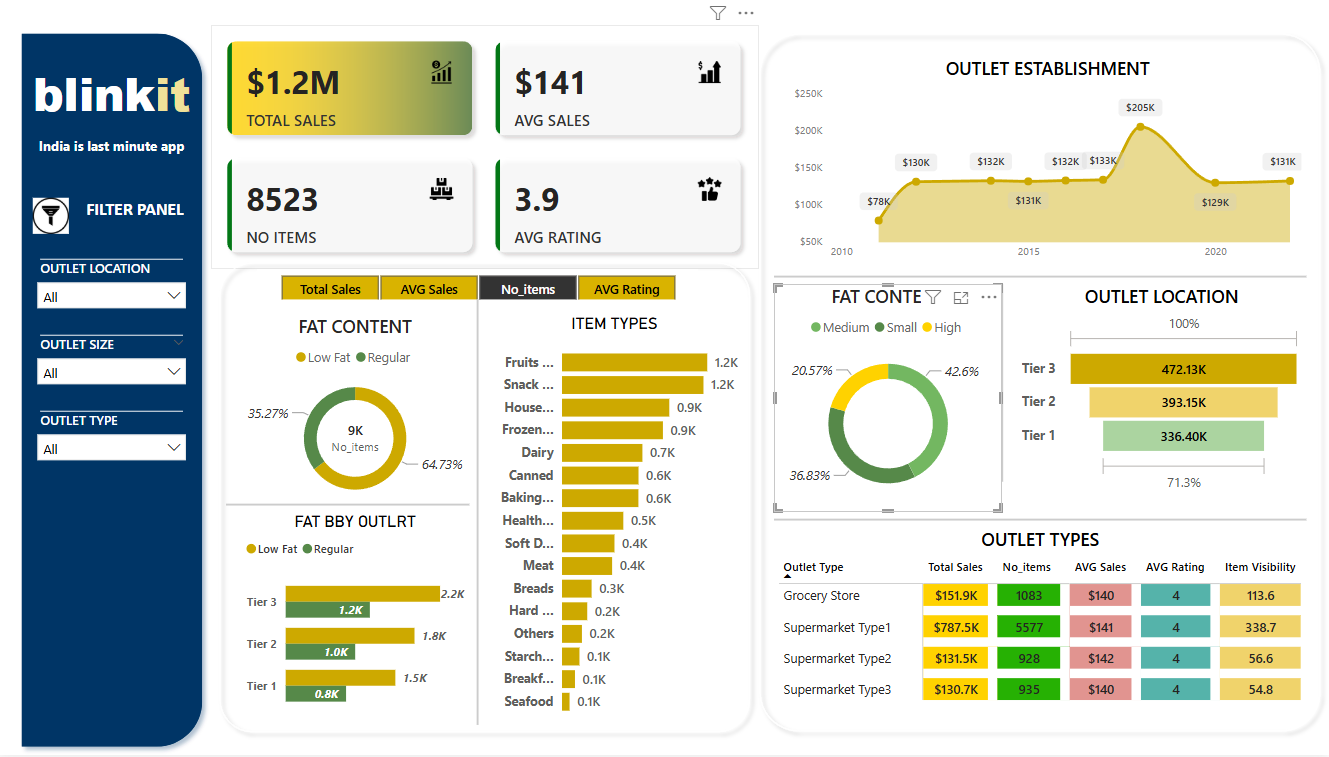

The dashboard page shown, as its layout file describes it:
{"tool":"powerbi","page":{"name":"Page 1","canvas":[1400,800],"ordinal":0},"visuals":[{"type":"shape","box":[16,32,208,768],"z":0},{"type":"textbox","box":[32,64,176,96],"z":1000},{"type":"textbox","box":[32,144,176,48],"z":2000},{"type":"cardVisual","fields":{"Data":["Dax-Measures.Total Sales","Dax-Measures.AVG Sales","Dax-Measures.No_items","Dax-Measures.AVG Rating"]},"box":[224,32,576,256],"z":3000},{"type":"shape","box":[224,272,576,512],"z":4000},{"type":"slicer","fields":{"Values":["MATRICS.MATRICS"]},"box":[272,288,464,32],"z":5000},{"type":"donutChart","title":"FAT CONTENT","fields":{"Y":["Dax-Measures.No_items"],"Category":["BlinkIT Data.Item Fat Content"]},"box":[256,336,240,208],"z":6000},{"type":"cardVisual","fields":{"Data":["Dax-Measures.No_items"]},"box":[320,432,112,64],"z":7000},{"type":"clusteredBarChart","title":"FAT BBY OUTLRT","fields":{"Y":["Dax-Measures.No_items"],"Category":["BlinkIT Data.Outlet Location Type"],"Series":["BlinkIT Data.Item Fat Content"]},"box":[256,544,240,224],"z":8000},{"type":"shape","box":[240,528,256,16],"z":9000},{"type":"shape","box":[496,320,16,448],"z":10000},{"type":"barChart","title":"ITEM TYPES","fields":{"Y":["Dax-Measures.No_items"],"Category":["BlinkIT Data.Item Type"]},"box":[512,336,272,432],"z":11000},{"type":"shape","box":[792,32,608,752],"z":12000},{"type":"areaChart","title":" OUTLET ESTABLISHMENT ","fields":{"Category":["BlinkIT Data.Outlet Establishment Year"],"Y":["Dax-Measures.Total Sales"]},"box":[832,64,544,224],"z":13000},{"type":"shape","box":[816,288,560,16],"z":14000},{"type":"donutChart","title":"FAT CONTENT","fields":{"Y":["Dax-Measures.No_items"],"Category":["BlinkIT Data.Outlet Size"]},"box":[816,304,240,240],"z":15000},{"type":"shape","box":[1040,304,32,208],"z":16000},{"type":"funnel","title":"OUTLET LOCATION","fields":{"Category":["BlinkIT Data.Outlet Location Type"],"Y":["Sum(BlinkIT Data.Sales)"]},"box":[1072,304,304,224],"z":17000},{"type":"shape","box":[816,544,560,16],"z":18000},{"type":"pivotTable","title":"OUTLET TYPES","fields":{"Rows":["BlinkIT Data.Outlet Type"],"Values":["Dax-Measures.Total Sales","Dax-Measures.No_items","Dax-Measures.AVG Sales","Dax-Measures.AVG Rating","Sum(BlinkIT Data.Item Visibility)"]},"box":[816,560,560,192],"z":19000},{"type":"slicer","fields":{"Values":["BlinkIT Data.Outlet Location Type"]},"box":[32,272,176,64],"z":20000},{"type":"slicer","fields":{"Values":["BlinkIT Data.Outlet Size"]},"box":[32,352,176,64],"z":21000},{"type":"slicer","fields":{"Values":["BlinkIT Data.Item Type"]},"box":[32,432,176,64],"z":21001},{"type":"textbox","box":[80,208,128,48],"z":21002},{"type":"image","box":[32,208,48,48],"z":21003}]}

Visuals, with their boxes in screenshot pixels (x1, y1, x2, y2), scaled from the page's 1400x800 canvas onto the 1329x757 screenshot:
shape: select_region(15, 30, 213, 756)
textbox: select_region(30, 61, 197, 151)
textbox: select_region(30, 136, 197, 182)
cardVisual - Dax-Measures.Total Sales x Dax-Measures.AVG Sales: select_region(213, 30, 759, 273)
shape: select_region(213, 257, 759, 742)
slicer - MATRICS.MATRICS: select_region(258, 273, 699, 303)
"FAT CONTENT" donutChart: select_region(243, 318, 471, 515)
cardVisual - Dax-Measures.No_items: select_region(304, 409, 410, 469)
"FAT BBY OUTLRT" clusteredBarChart: select_region(243, 515, 471, 727)
shape: select_region(228, 500, 471, 515)
shape: select_region(471, 303, 486, 727)
"ITEM TYPES" barChart: select_region(486, 318, 744, 727)
shape: select_region(752, 30, 1328, 742)
" OUTLET ESTABLISHMENT " areaChart: select_region(790, 61, 1306, 273)
shape: select_region(775, 273, 1306, 288)
"FAT CONTENT" donutChart: select_region(775, 288, 1002, 515)
shape: select_region(987, 288, 1018, 484)
"OUTLET LOCATION" funnel: select_region(1018, 288, 1306, 500)
shape: select_region(775, 515, 1306, 530)
"OUTLET TYPES" pivotTable: select_region(775, 530, 1306, 712)
slicer - BlinkIT Data.Outlet Location Type: select_region(30, 257, 197, 318)
slicer - BlinkIT Data.Outlet Size: select_region(30, 333, 197, 394)
slicer - BlinkIT Data.Item Type: select_region(30, 409, 197, 469)
textbox: select_region(76, 197, 197, 242)
image: select_region(30, 197, 76, 242)
